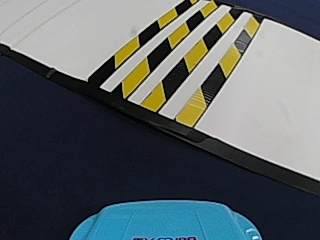bump: (93, 5, 261, 118)
